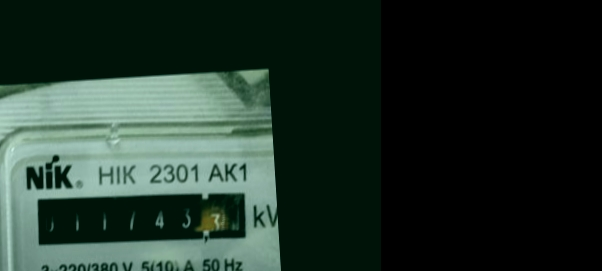0: (42, 206, 57, 234)
1: (69, 204, 84, 233), (97, 204, 111, 232)
3: (178, 203, 193, 230), (207, 211, 224, 233)
4: (152, 205, 167, 231)
7: (124, 205, 139, 231)
screen: (28, 180, 257, 257)
